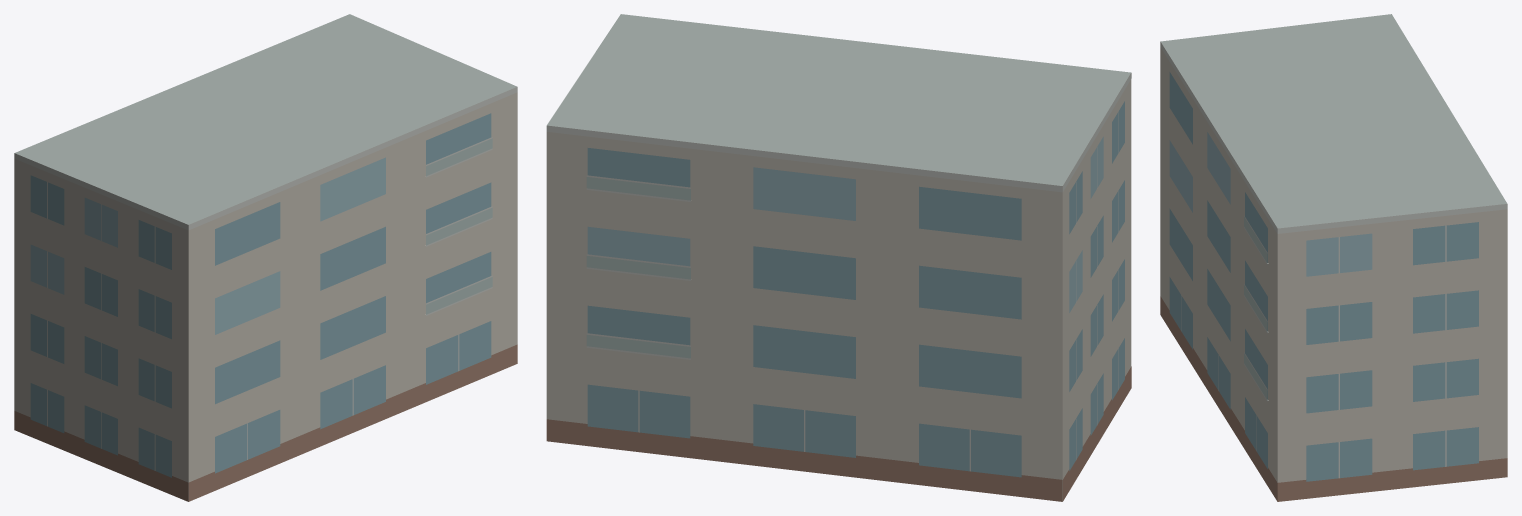
Rendered from survey-upis-32911836.glb.
3 views of the same model, side by side, from view 1: azimuth 30°, elevation 25°; view 2: azimuth 150°, elevation 25°; view 3: azimuth 270°, elevation 25° (orthographic). The views are drawn at different scales.
Visible parts, largest first — view 1: survey-upis-32911836.tmp; view 2: survey-upis-32911836.tmp; view 3: survey-upis-32911836.tmp.
Part boxes in pixels (x1,y1,x2,y2): survey-upis-32911836.tmp: (14,14,517,501); survey-upis-32911836.tmp: (546,14,1131,501); survey-upis-32911836.tmp: (1160,14,1507,501).
Bounding box in the file's own units: 20.54 × 12.2 × 14.05.
